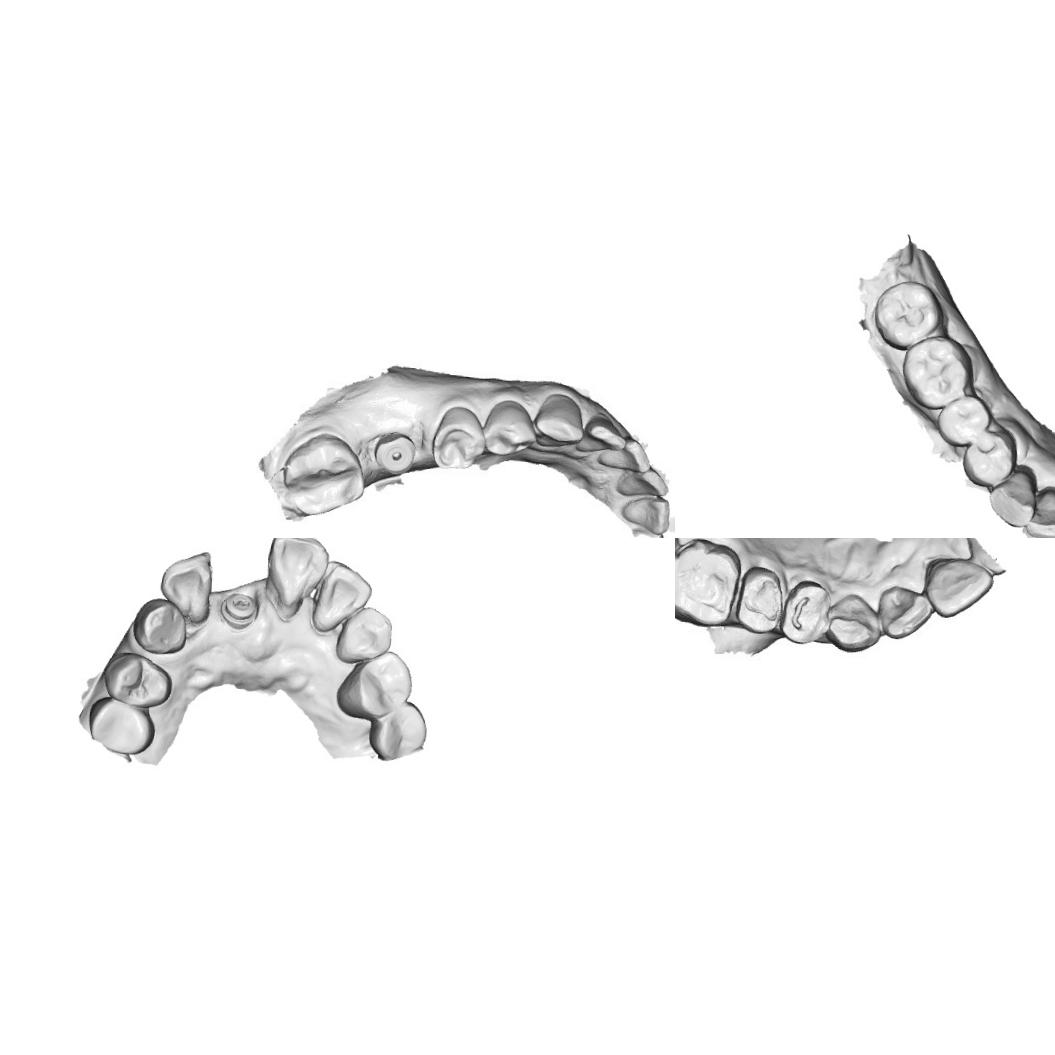canine: (333, 604, 394, 666), (985, 461, 1039, 529), (130, 595, 189, 656), (530, 390, 586, 450), (824, 596, 880, 652)
implant: (371, 428, 419, 476)
implant_minus: (217, 589, 260, 630)
incisor: (261, 538, 331, 624), (308, 558, 374, 636), (156, 548, 215, 624), (922, 554, 989, 620), (878, 586, 935, 643), (617, 493, 672, 536), (574, 410, 624, 456), (594, 436, 649, 475), (615, 464, 669, 498), (1023, 483, 1055, 538)
molar: (279, 429, 368, 520), (899, 332, 975, 411), (872, 276, 944, 349), (675, 540, 735, 623)
premolar: (333, 646, 414, 721), (84, 694, 157, 756), (100, 650, 173, 710), (365, 699, 433, 763), (428, 402, 487, 474), (482, 397, 538, 459), (961, 429, 1016, 492), (933, 390, 992, 447), (733, 568, 786, 630), (780, 584, 828, 642)
